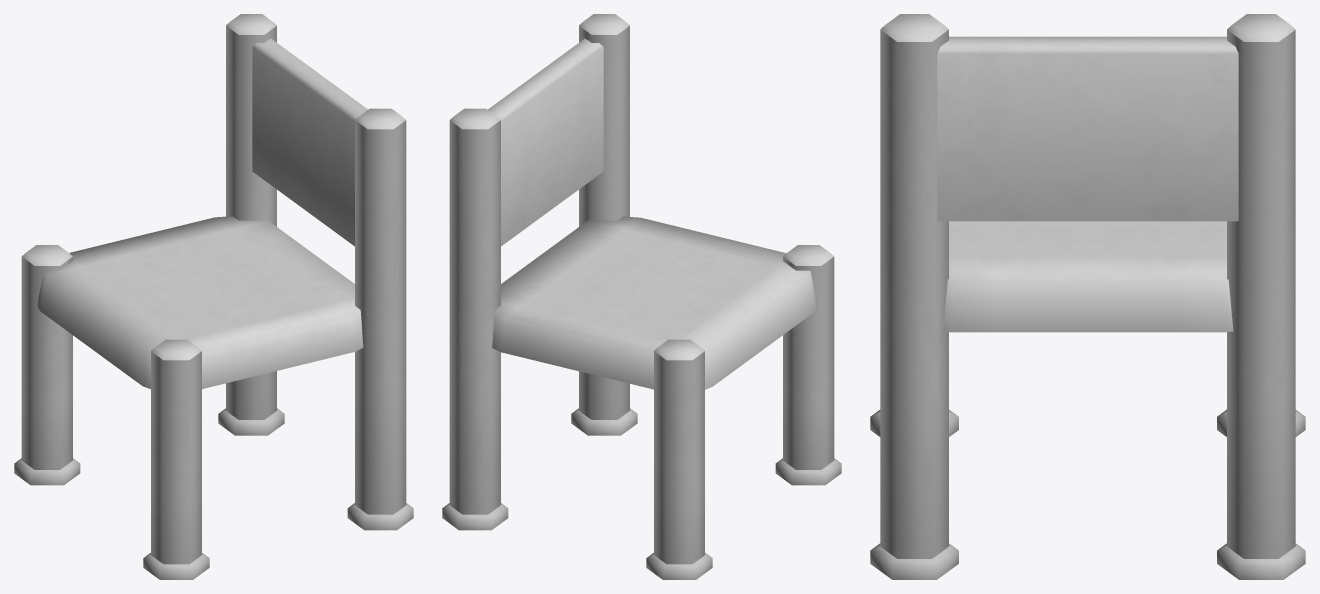
File: plasticchair.fbx
The picture shows the model from 3 angles, left to right: view 1: azimuth 30°, elevation 25°; view 2: azimuth 150°, elevation 25°; view 3: azimuth 270°, elevation 25°; orthographic projection. The views are drawn at different scales.
Visible parts, largest first — view 1: Plane.003; view 2: Plane.003; view 3: Plane.003.
Boxes of the visible parts, x1=… form: Plane.003: x1=14, y1=14, x2=413, y2=579; Plane.003: x1=442, y1=14, x2=841, y2=579; Plane.003: x1=870, y1=14, x2=1305, y2=579.
Size of the model in its own units: 63.33 by 95.73 by 70.1.
